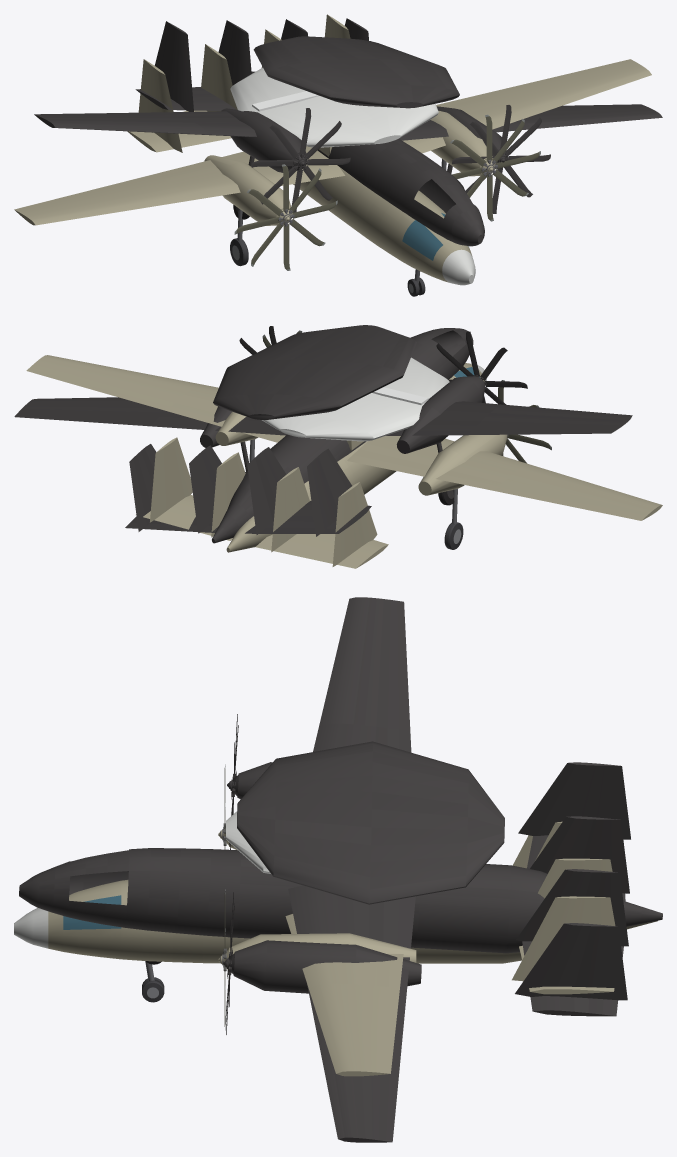
File: aewc__e_2d_japan.glb
3 views of the same model, one above another, from view 1: azimuth 30°, elevation 25°; view 2: azimuth 150°, elevation 25°; view 3: azimuth 270°, elevation 25° (orthographic). The views are drawn at different scales.
Parts seen in each view (by area): view 1: Wreck, Fuselage_Mesh, Radar_Mesh, Propeller_Mesh, Propeller_1_Mesh; view 2: Wreck, Fuselage_Mesh, Radar_Mesh, Propeller_Mesh; view 3: Wreck, Fuselage_Mesh, Radar_Mesh.
Part boxes in pixels (x1=…): Wreck: x1=34, y1=18, x2=662, y2=246; Fuselage_Mesh: x1=14, y1=14, x2=651, y2=296; Radar_Mesh: x1=230, y1=67, x2=438, y2=147; Propeller_Mesh: x1=234, y1=164, x2=337, y2=270; Propeller_1_Mesh: x1=450, y1=114, x2=540, y2=221; Wreck: x1=14, y1=325, x2=632, y2=543; Fuselage_Mesh: x1=26, y1=355, x2=662, y2=568; Radar_Mesh: x1=262, y1=357, x2=449, y2=441; Propeller_Mesh: x1=498, y1=380, x2=551, y2=463; Wreck: x1=19, y1=597, x2=662, y2=1142; Fuselage_Mesh: x1=14, y1=821, x2=657, y2=1076; Radar_Mesh: x1=226, y1=811, x2=270, y2=873.
Size of what is drawn, in the model's own units: 25.04 by 6.89 by 17.74.
